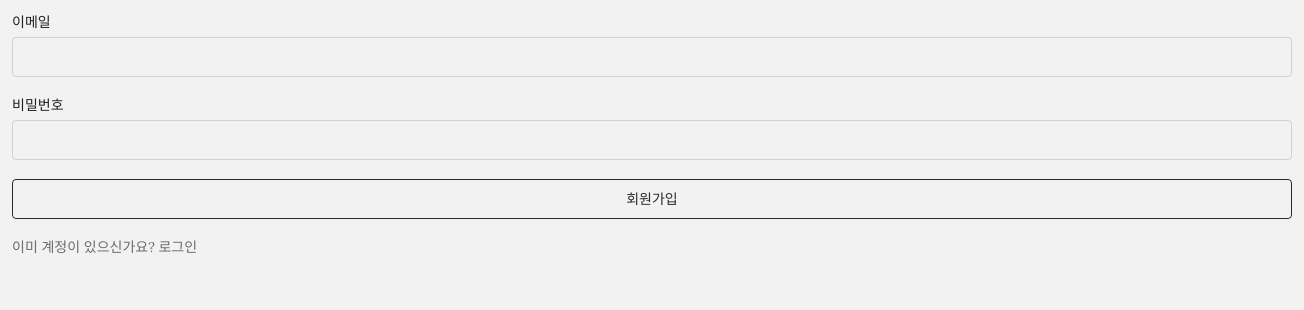
Scenario: AC-AUTH-031 -- 회원가입 실패 시 정확한 서버 오류 메시지 3종 표시 › (a) 잘못된 이메일 형식 -- 정확한 메시지, 이동 없음
Step 1. Type "not-an-email" into the field labelled "이메일" → (652, 57), box [12,37,1292,77]
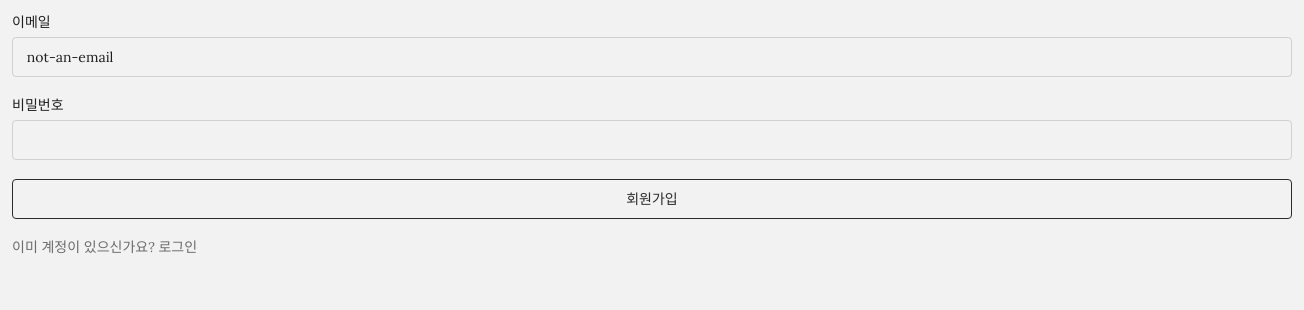
Step 2. Type "correct horse battery staple" into the password field labelled "비밀번호" → (652, 140), box [12,120,1292,160]
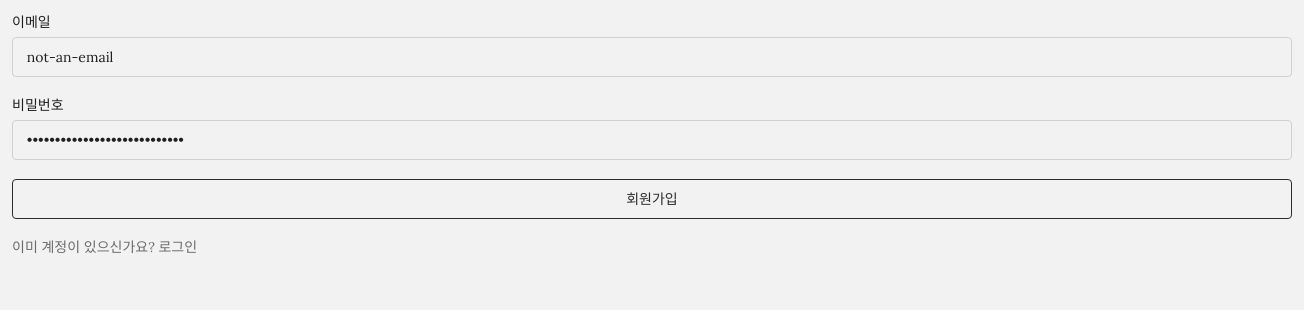
Step 3. Click the button "회원가입" → (652, 199), box [12,179,1292,219]
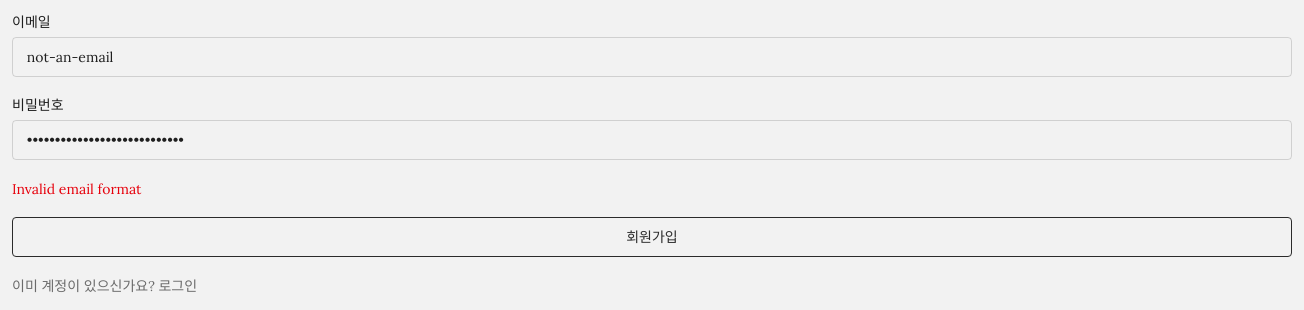
Check: the message reads "Invalid email format", box [12,180,142,198]
